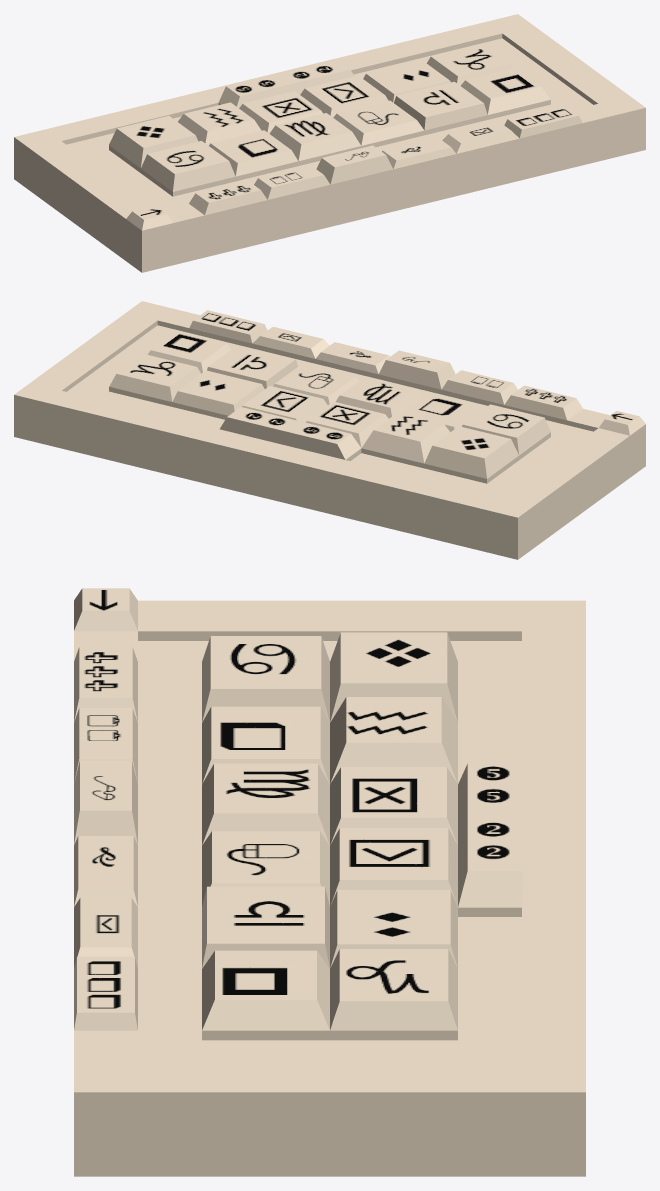
File: macintosh keyboard.fbx
3 renders of one model, top to bottom at view 1: azimuth 30°, elevation 25°; view 2: azimuth 150°, elevation 25°; view 3: azimuth 270°, elevation 25°, orthographic. The views are drawn at different scales.
Parts seen in each view (by area): view 1: Keyboard; view 2: Keyboard; view 3: Keyboard.
Boxes of the visible parts, bbox=[...] form: Keyboard: bbox=[14, 14, 645, 272]; Keyboard: bbox=[14, 301, 645, 559]; Keyboard: bbox=[74, 588, 585, 1176].
Size of the model in its own units: 200 by 22.57 by 88.
